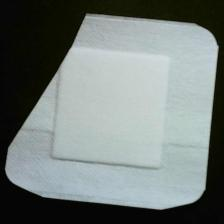Cut: (6, 15, 221, 212)
